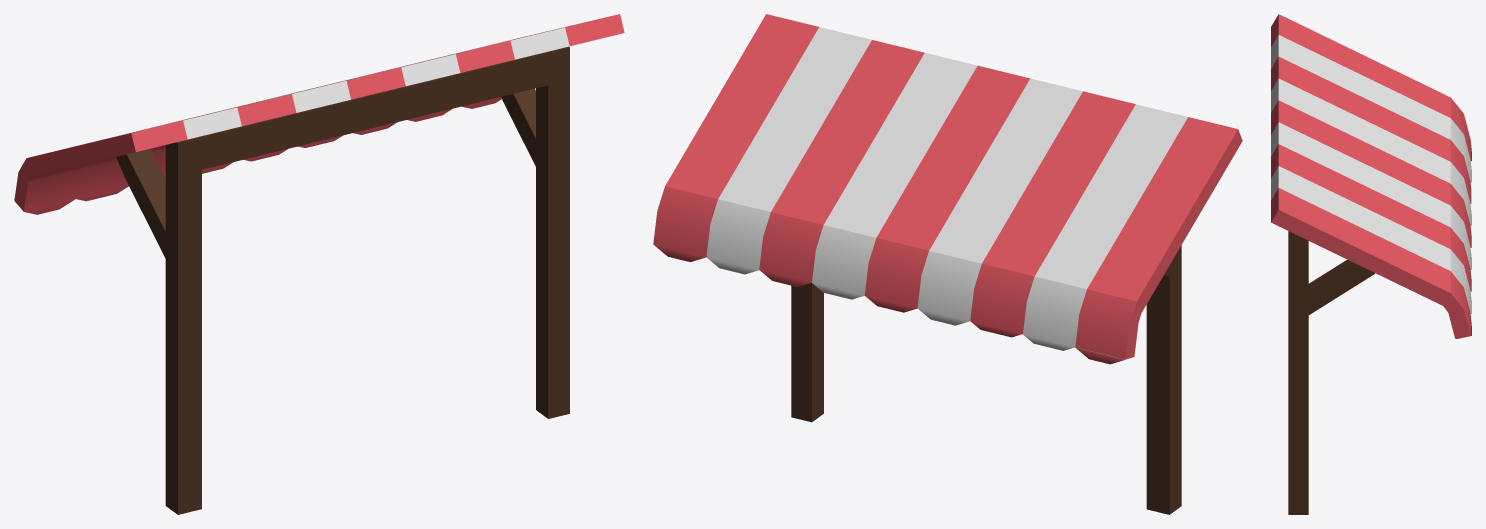
File: RedMarketStand.glb
The picture shows the model from 3 angles, left to right: view 1: azimuth 30°, elevation 25°; view 2: azimuth 150°, elevation 25°; view 3: azimuth 270°, elevation 25°; orthographic projection. The views are drawn at different scales.
Visible parts, largest first — view 1: Cube.106; view 2: Cube.106; view 3: Cube.106.
Boxes of the visible parts, x1,y1,x2,y2 form: Cube.106: [14, 14, 624, 514]; Cube.106: [653, 14, 1242, 514]; Cube.106: [1271, 14, 1471, 514].
Size of the model in its own units: 7.96 by 6.21 by 3.45.
